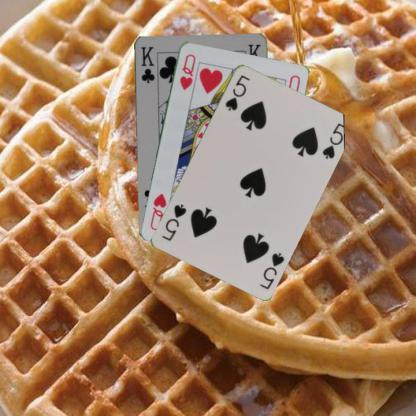5s: (257, 249, 286, 291), (222, 72, 252, 112)
Kc: (138, 44, 156, 84)
Qh: (176, 51, 197, 91)
